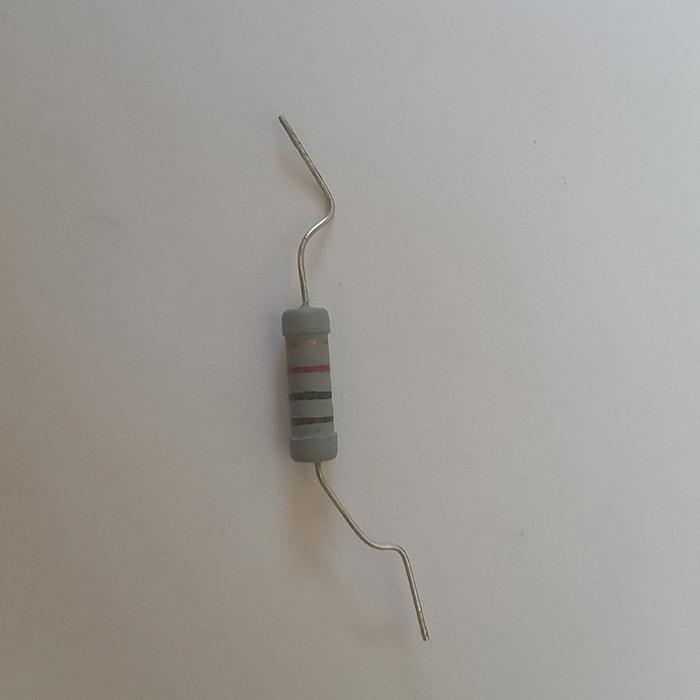resistor: (281, 303, 338, 461)
